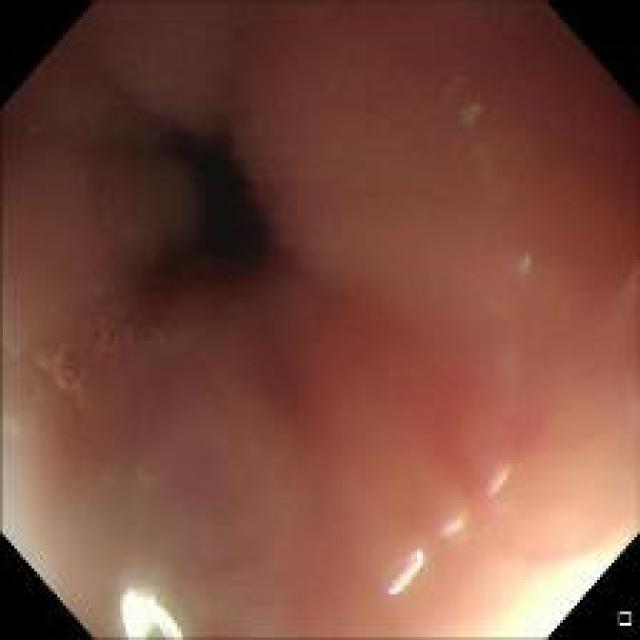bubbles: (98, 309, 158, 356), (44, 342, 95, 395)
color misalignment: (451, 94, 489, 136), (508, 239, 534, 286)
contrast: (139, 120, 272, 292)
saturation: (471, 526, 636, 639)
specularity: (116, 579, 186, 639), (384, 549, 428, 595), (481, 460, 511, 502), (435, 509, 465, 540)
